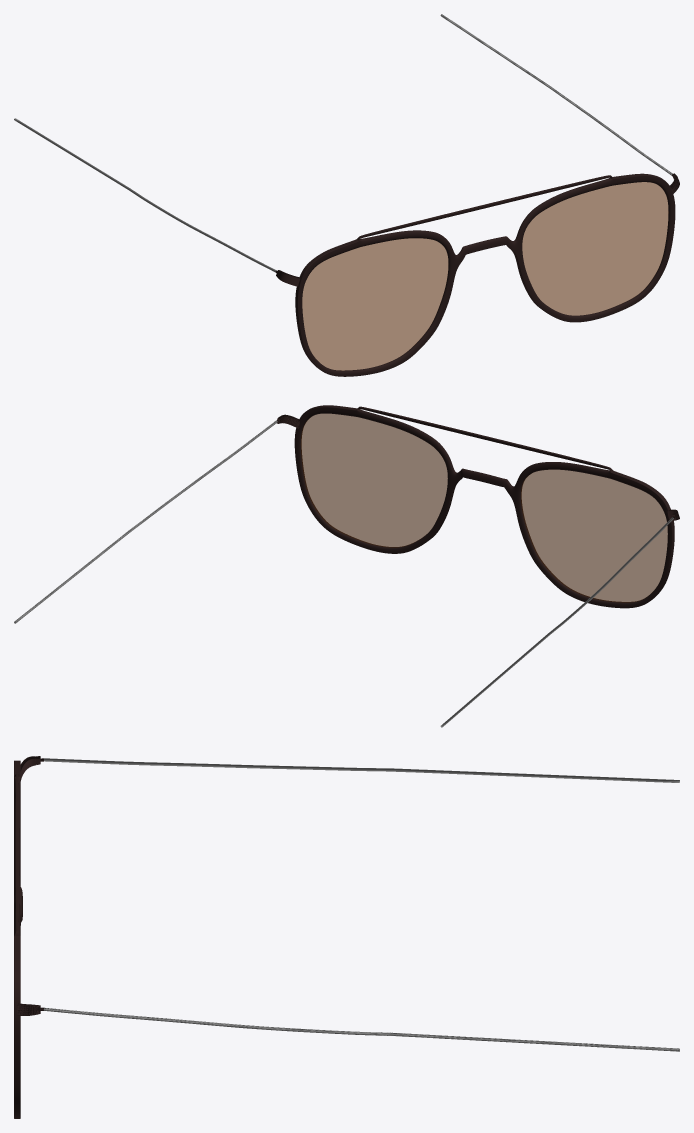
Rendered from glasses-15.glb.
3 renders of one model, top to bottom at view 1: azimuth 30°, elevation 25°; view 2: azimuth 150°, elevation 25°; view 3: azimuth 270°, elevation 25°, orthographic. The views are drawn at different scales.
Parts seen in each view (by area): view 1: Plane.001, Plane, bow_right.002, bow_right.003; view 2: Plane.001, Plane, bow_right.003, bow_right.002; view 3: Plane, bow_right.003, bow_right.002.
Boxes of the visible parts, x1,y1,x2,y2 form: Plane.001: (302,182,668,370); Plane: (295,173,675,376); bow_right.002: (14,118,276,272); bow_right.003: (440,14,672,175); Plane.001: (300,413,667,602); Plane: (294,405,674,608); bow_right.003: (14,420,277,623); bow_right.002: (440,517,673,727); Plane: (14,760,22,1118); bow_right.003: (44,1007,679,1051); bow_right.002: (44,758,679,782).
Bounding box in the file's own units: 17.53 × 5.49 × 18.28.
